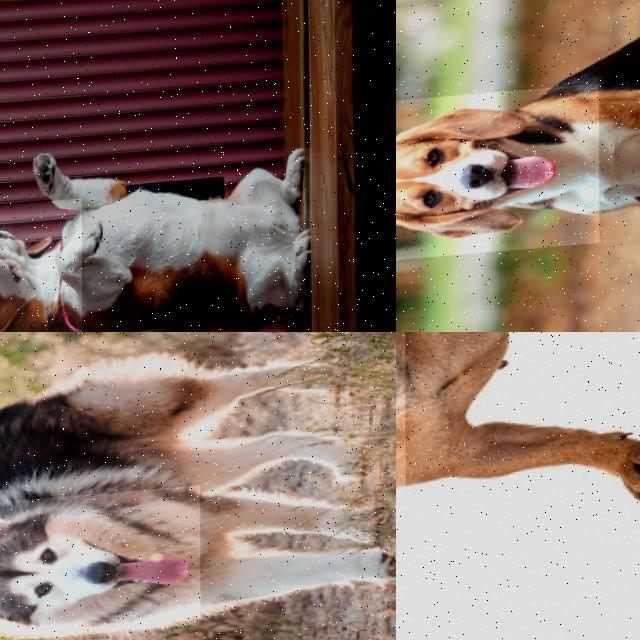beagle: (396, 82, 613, 262), (0, 197, 99, 332)
husky: (0, 485, 212, 640)
